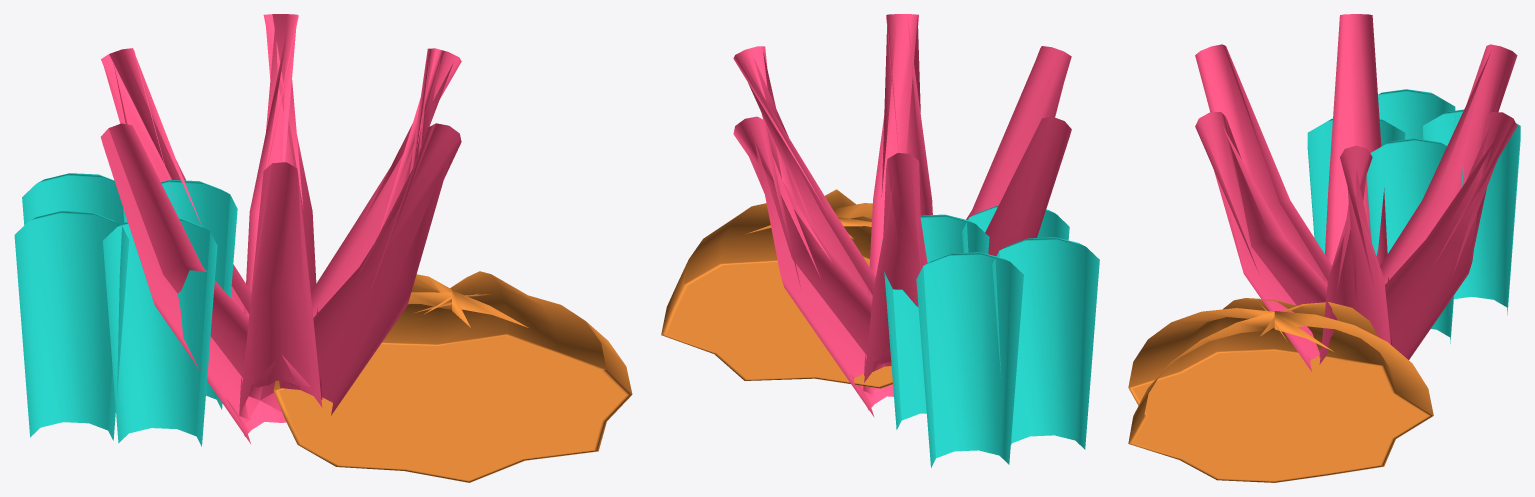
File: coral_reef.glb
3 renders of one model, left to right at view 1: azimuth 30°, elevation 25°; view 2: azimuth 150°, elevation 25°; view 3: azimuth 270°, elevation 25°, orthographic. The views are drawn at different scales.
Parts seen in each view (by area): view 1: CoralReef; view 2: CoralReef; view 3: CoralReef.
Boxes of the visible parts, bbox=[...] form: CoralReef: bbox=[14, 14, 632, 482]; CoralReef: bbox=[661, 14, 1099, 467]; CoralReef: bbox=[1128, 14, 1520, 482].
Size of the model in its own units: 2.25 by 1.47 by 1.68.
